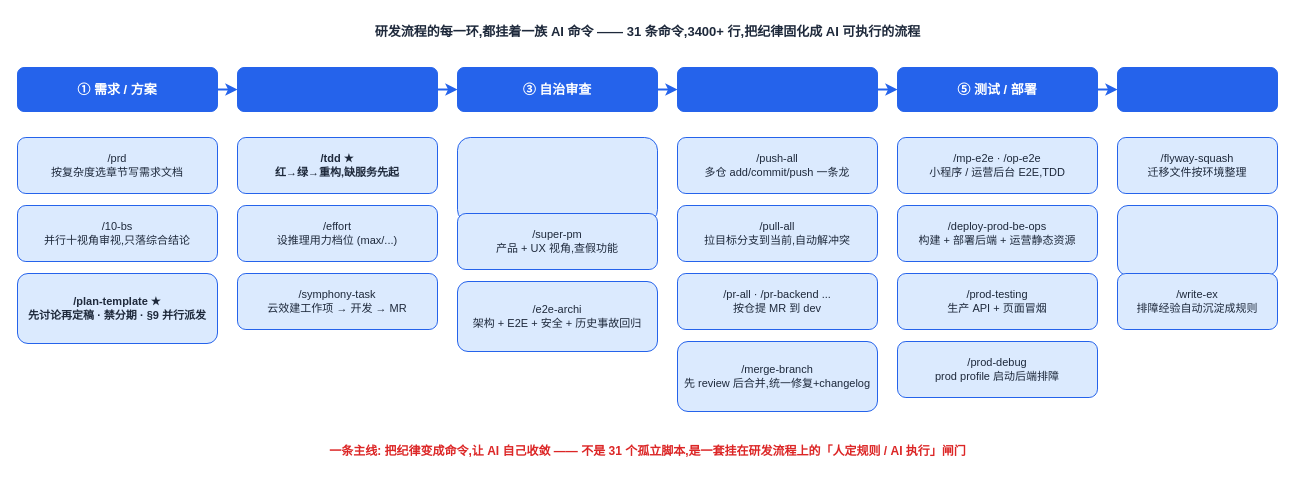
The diagram is 1295 pixels wide and 494 high, and some of its shapes have lost their labels. The centre of each missing label's shape, as x and y in pixels:
"/cron-review 每日 03:00 自动 kd-review" goes at pixel 1197 240.
"/kd-review ★★★ 21 bucket 并行 → streaming 修复 → 连续 3 轮清零收敛" goes at pixel 557 179.
"② 实现" goes at pixel 337 89.
"④ 跨仓协作" goes at pixel 777 89.
"⑥ 治理 / 沉淀" goes at pixel 1197 89.
